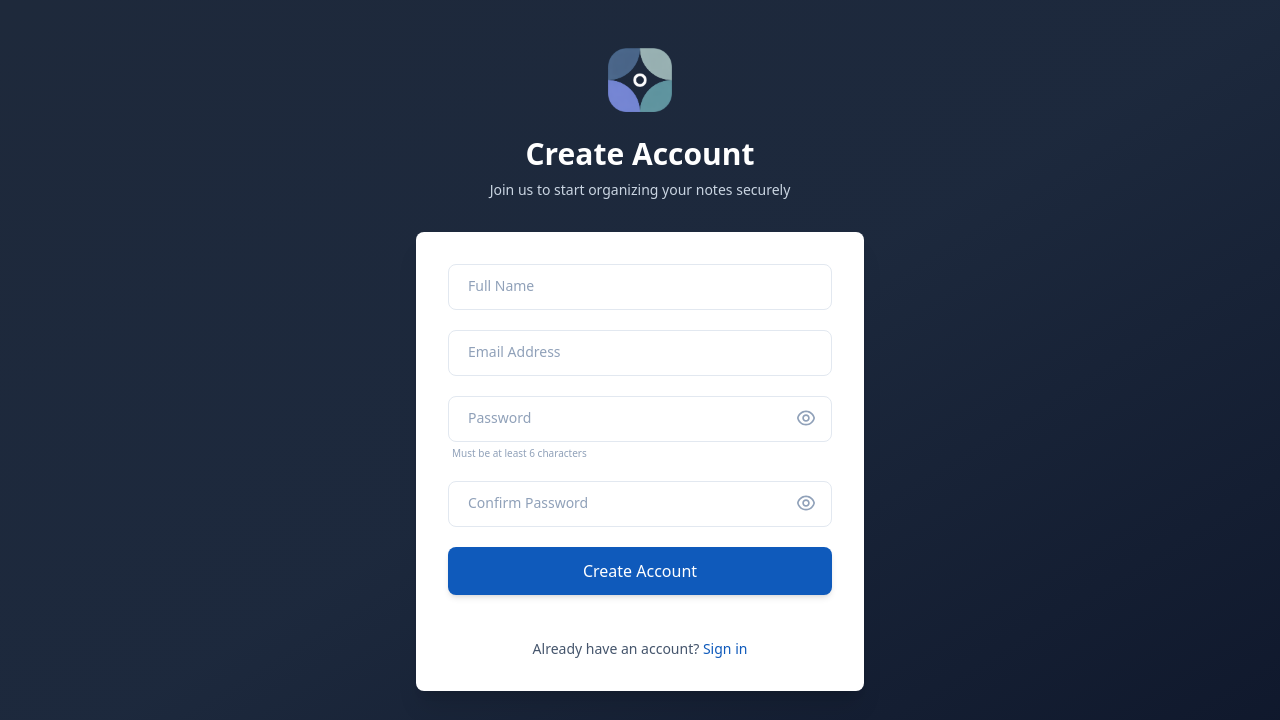
SignUp Page Component › shows validation errors for empty fields
The image size is (1280, 720).
# Submit empty form
Click the button "Create Account" at x=640, y=571, box [448,547,832,595]
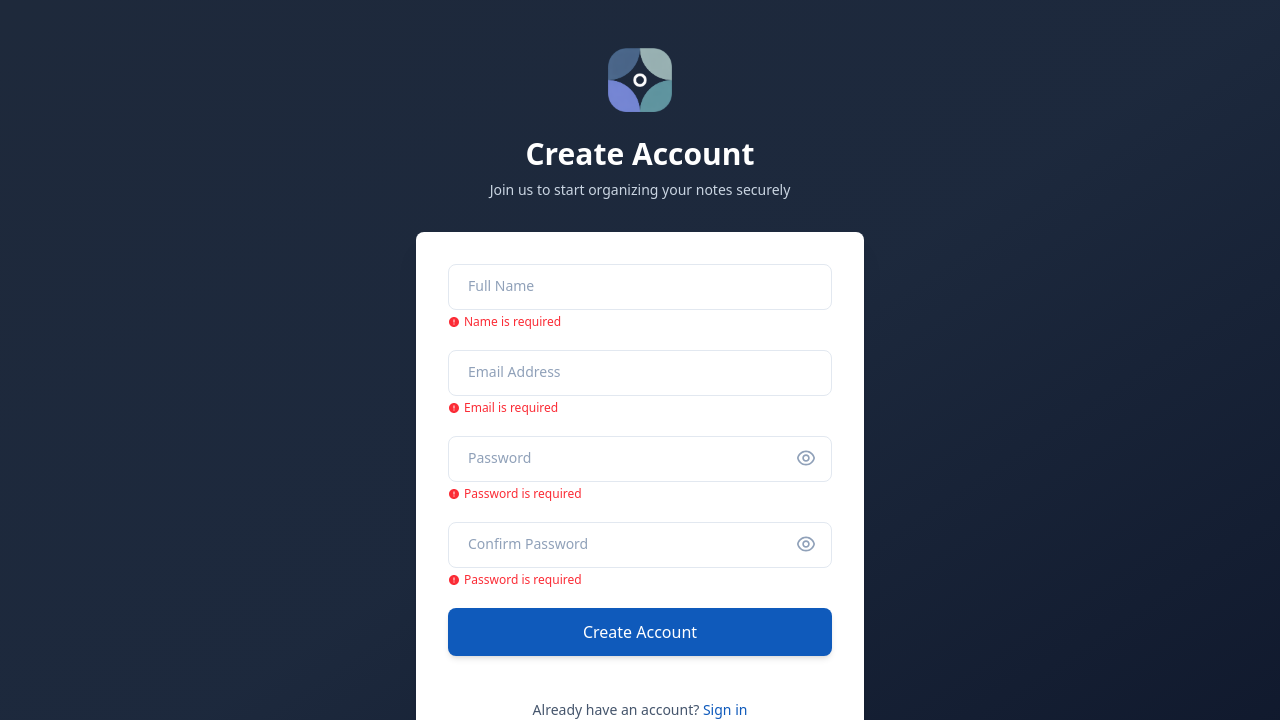
expect the text "Name is required" is shown: met, box [448,313,561,330]
expect the text "Email is required" is shown: met, box [448,399,558,416]
expect the text "Password is required" is shown 2 times: met, box [448,485,582,502]; [448,571,582,588]
